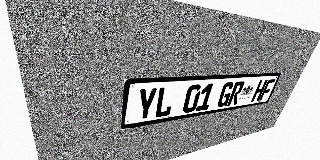0: (182, 84, 203, 114)
1: (195, 83, 216, 111)
F: (259, 79, 276, 101)
G: (216, 82, 235, 108)
H: (251, 80, 268, 102)
L: (154, 86, 176, 118)
R: (227, 81, 245, 106)
Y: (135, 87, 158, 121)
